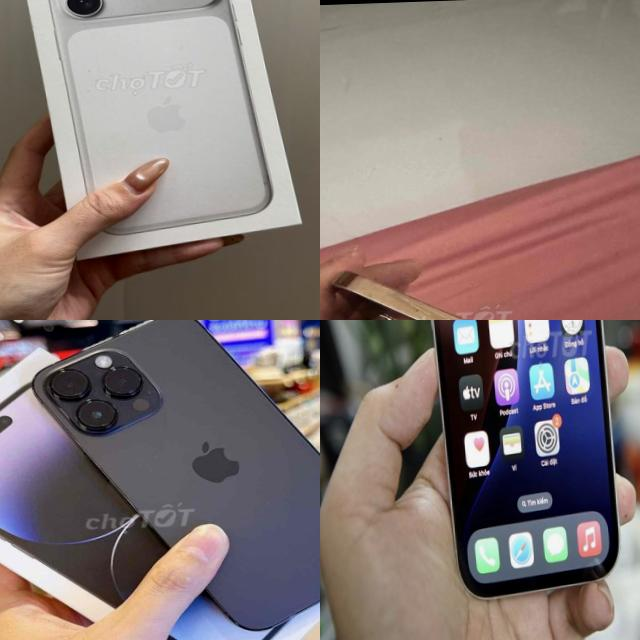gen_12_13: (321, 263, 551, 320)
gen_14: (34, 320, 320, 635)
gen_16: (401, 320, 629, 603)
gen_17: (37, 0, 286, 242)
